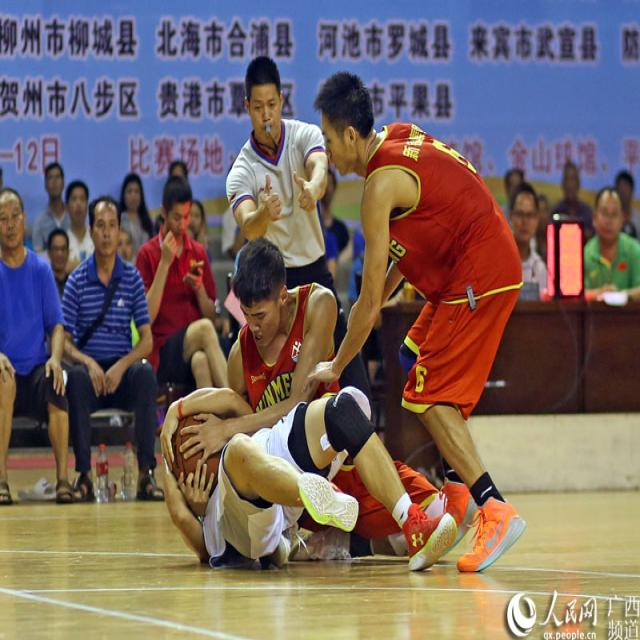10-: (0, 64, 639, 570)
down: (157, 386, 371, 578), (225, 233, 354, 450)
